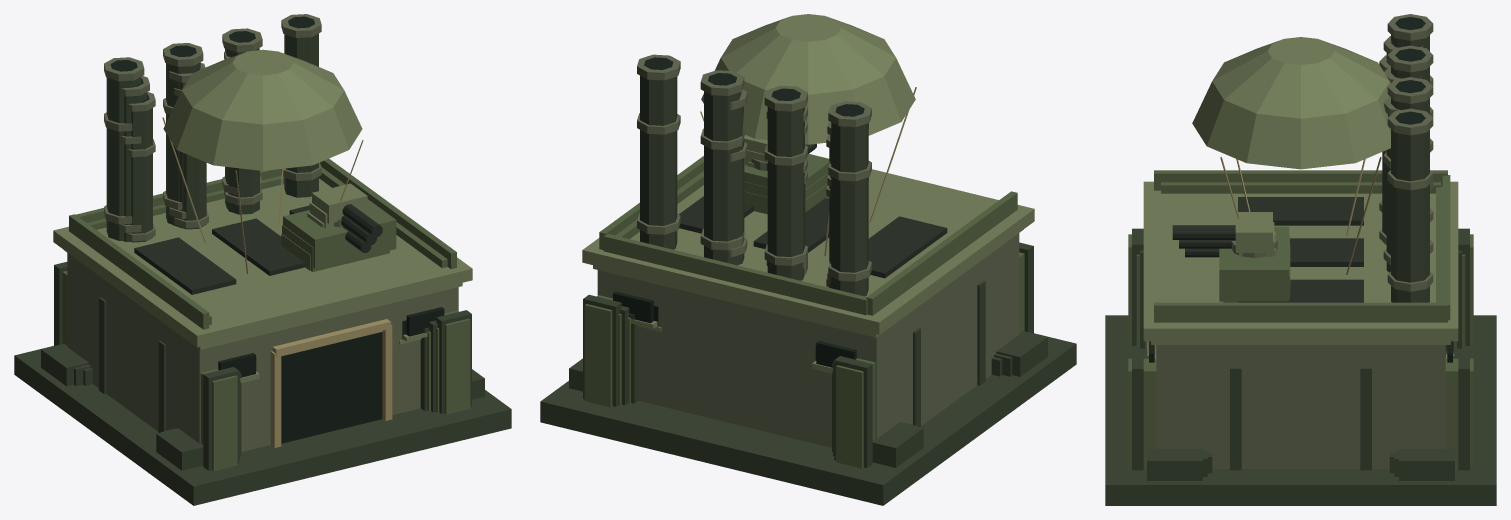
File: military_field_props.glb
3 renders of one model, left to right at view 1: azimuth 30°, elevation 25°; view 2: azimuth 150°, elevation 25°; view 3: azimuth 270°, elevation 25°, orthographic. The views are drawn at different scales.
Visible parts, largest first — view 1: Fortification.002, Canopy, Fortification.001, Fortification; view 2: Fortification.002, Canopy, Fortification.001, Fortification; view 3: Fortification.002, Canopy, Fortification.001, Fortification.
Boxes of the visible parts, x1,y1,x2,y2 form: Fortification.002: (14,14,511,505); Canopy: (162,49,363,273); Fortification.001: (64,51,462,459); Fortification: (83,88,430,455); Fortification.002: (540,54,1076,505); Canopy: (700,14,916,255); Fortification.001: (593,89,1023,456); Fortification: (627,121,1002,451); Fortification.002: (1105,14,1496,505); Canopy: (1192,37,1390,274); Fortification.001: (1136,36,1465,476); Fortification: (1145,55,1456,473).
Size of the model in its own units: 9.03 by 9.2 by 8.82.
Materials: 1 (1 with a texture image).
